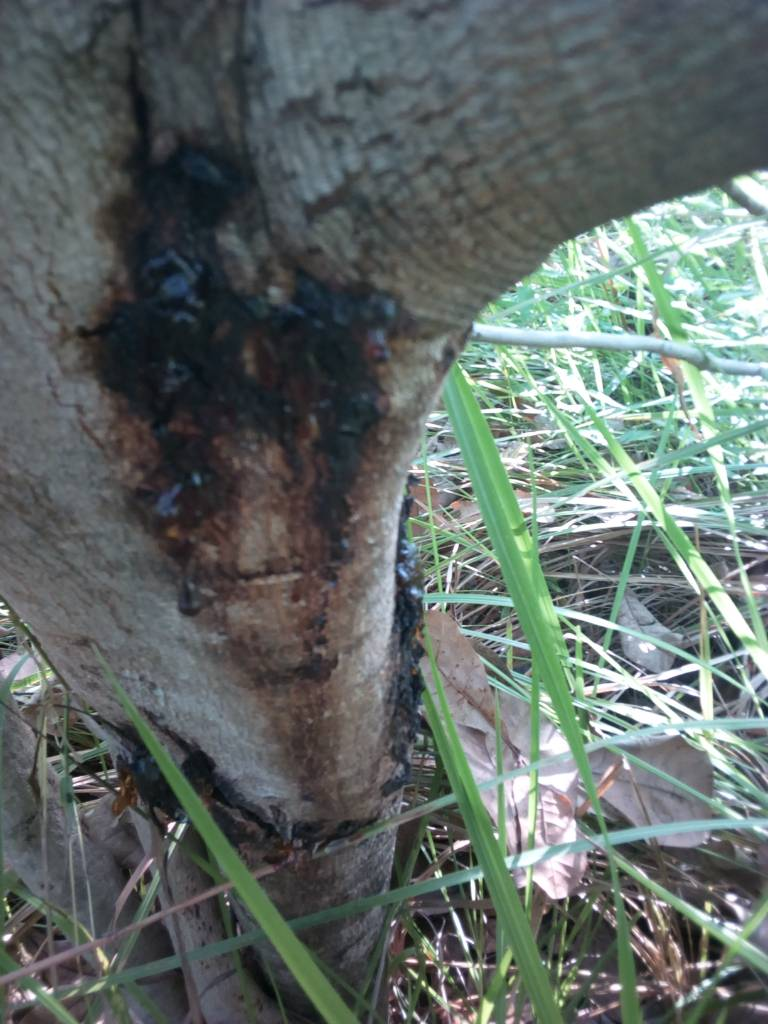Mecocorynus longiceps: (31, 130, 403, 619)
